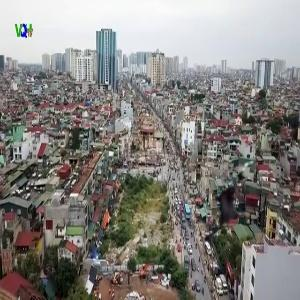drone: (179, 155, 282, 258)
